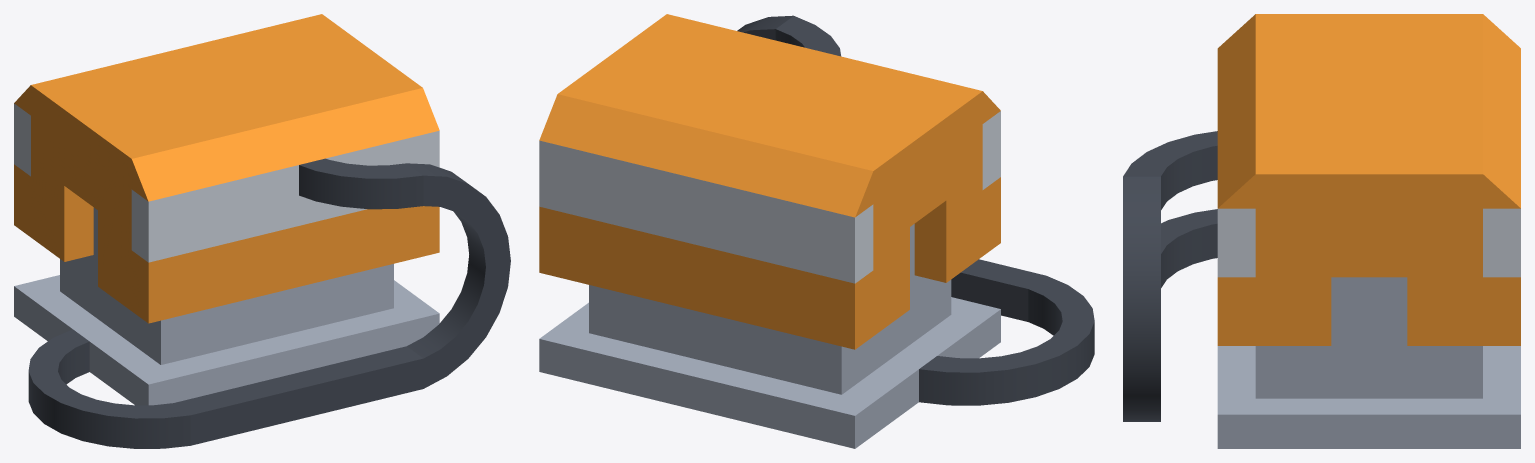
Rendered from machine_generator.dae.
The picture shows the model from 3 angles, left to right: view 1: azimuth 30°, elevation 25°; view 2: azimuth 150°, elevation 25°; view 3: azimuth 270°, elevation 25°; orthographic projection. The views are drawn at different scales.
Visible parts, largest first — view 1: machine_generator, cable; view 2: machine_generator, cable; view 3: machine_generator, cable.
Part boxes in pixels (bbox=[...]): machine_generator: bbox=[14, 14, 439, 405]; cable: bbox=[28, 158, 510, 448]; machine_generator: bbox=[539, 14, 1000, 448]; cable: bbox=[737, 15, 1094, 405]; machine_generator: bbox=[1217, 14, 1520, 448]; cable: bbox=[1123, 131, 1217, 421].
Bounding box in the file's own units: 0.7 × 0.4 × 0.525.
